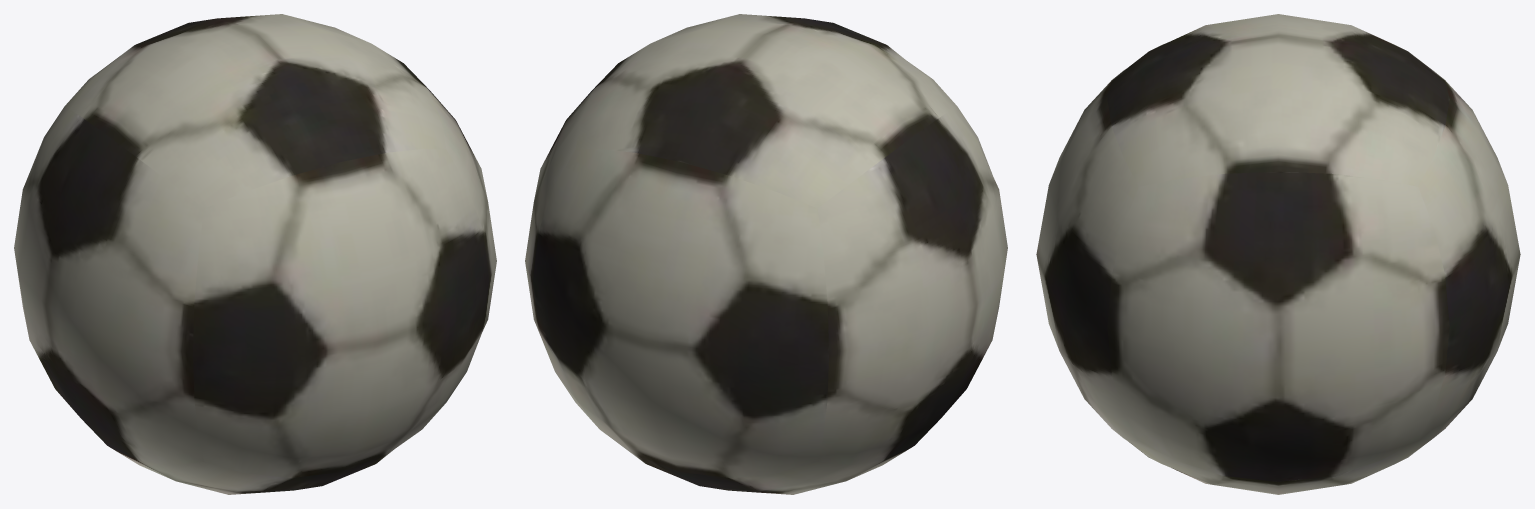
Rendered from ball.gltf.
3 views of the same model, side by side, from view 1: azimuth 30°, elevation 25°; view 2: azimuth 150°, elevation 25°; view 3: azimuth 270°, elevation 25° (orthographic).
Parts seen in each view (by area): view 1: g; view 2: g; view 3: g.
Part boxes in pixels (x1=…): g: x1=14, y1=14, x2=496, y2=494; g: x1=525, y1=14, x2=1007, y2=494; g: x1=1036, y1=14, x2=1520, y2=494.
Size of the model in its own units: 2 by 2 by 2.
Materials: 1 (1 with a texture image).
